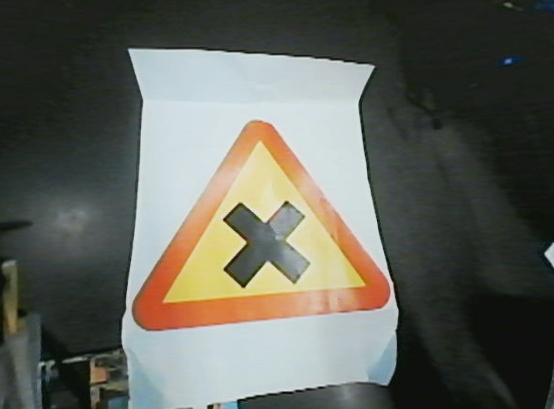junction: (127, 110, 397, 324)
